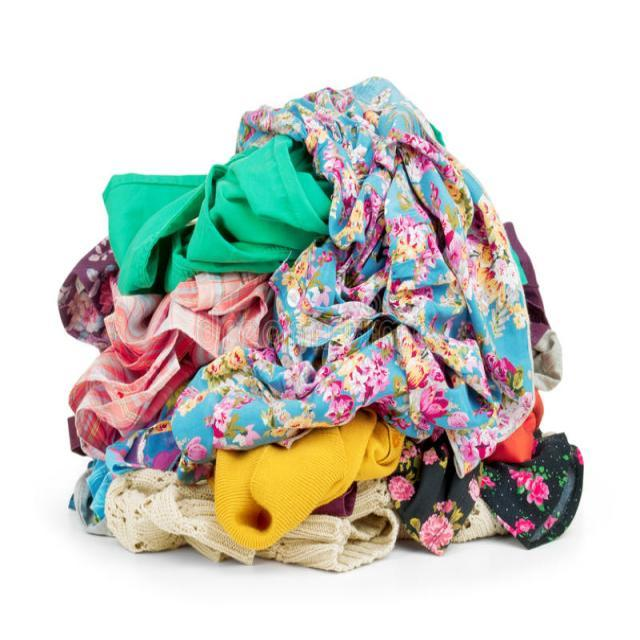clothes: (125, 232, 498, 480)
